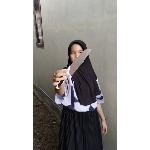Pisau: (55, 49, 95, 90)
